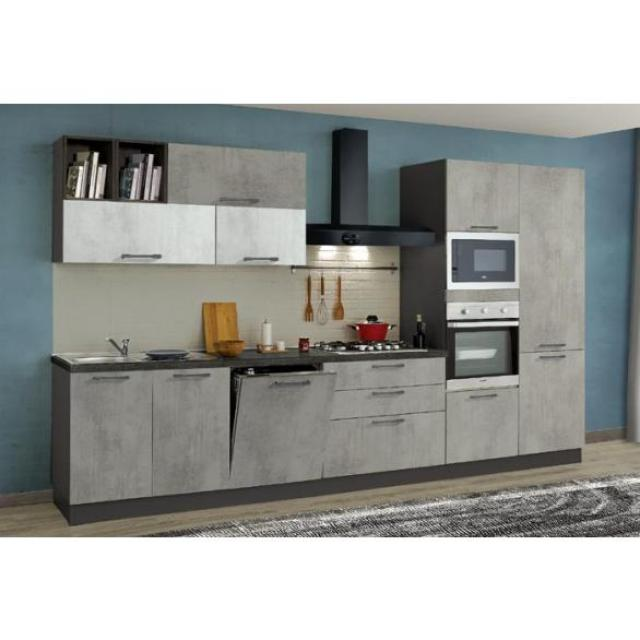dishwasher: (225, 365, 340, 488)
